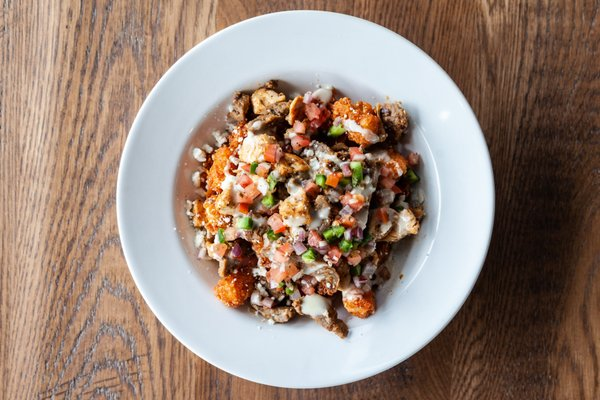sushi: (107, 9, 495, 380)
